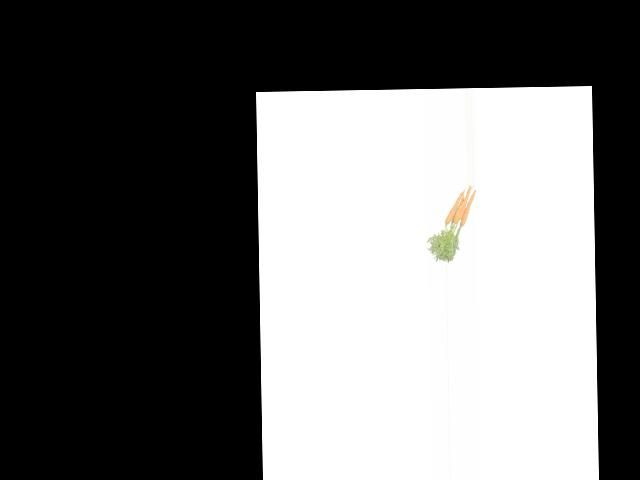carrot: (457, 188, 480, 228)
